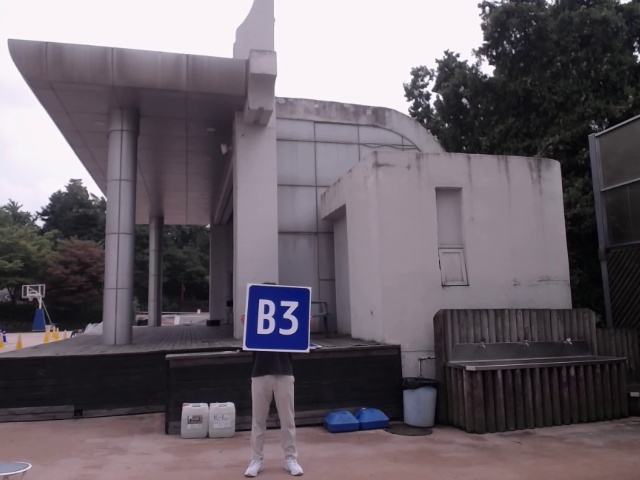delivery_b3: (245, 285, 309, 350)
